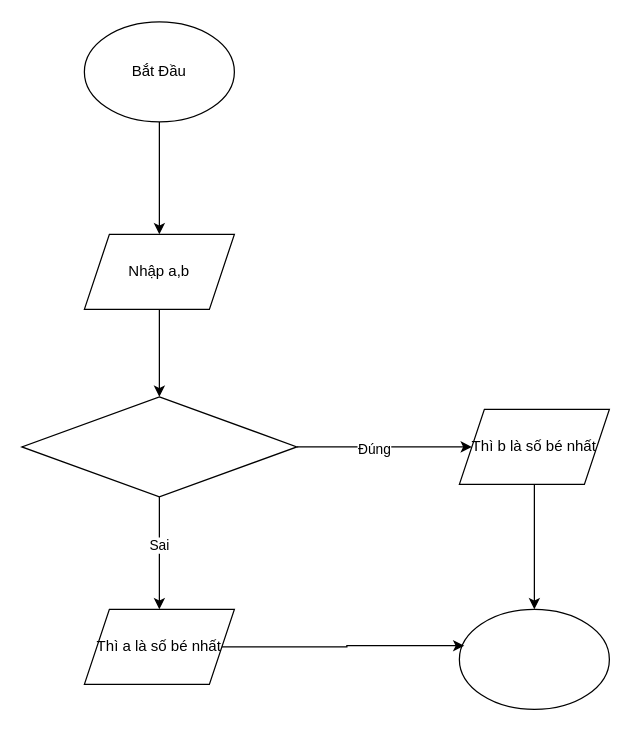
The diagram is 631 pixels wide and 731 high, and some of its shapes have lost their labels. Here are the shapes that lost their labels. From the top down, the box of each, then its label:
(21, 396, 297, 497): If a>b
(458, 608, 609, 709): End
